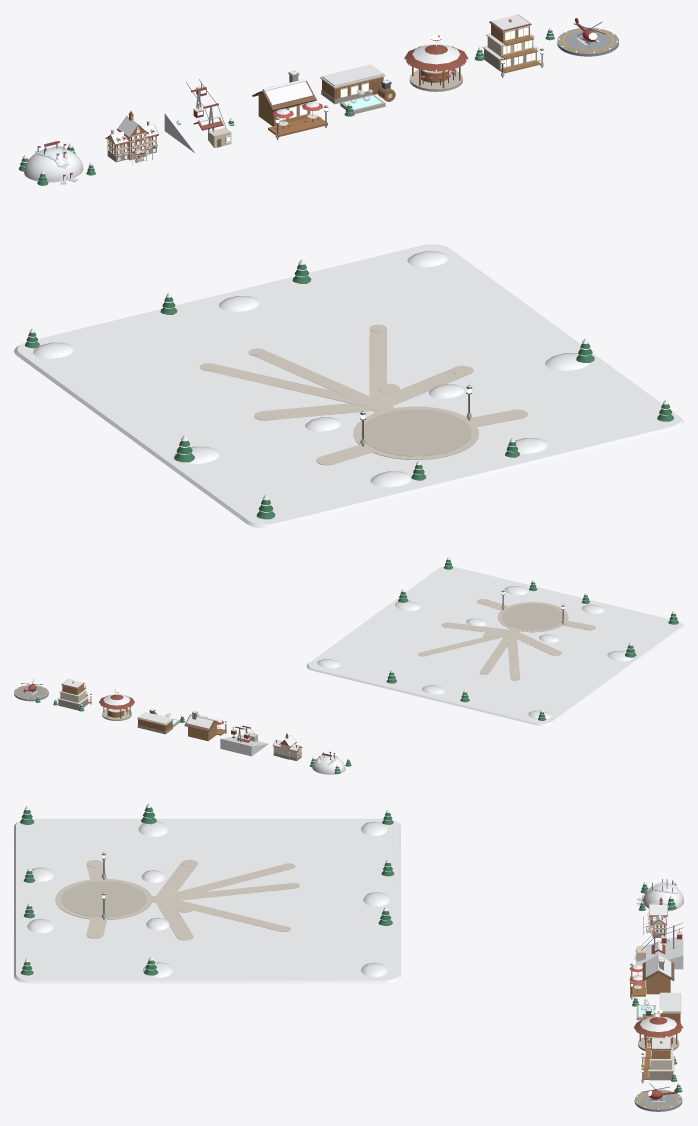
Rendered from epuletek.glb.
The picture shows the model from 3 angles, top to bottom: view 1: azimuth 30°, elevation 25°; view 2: azimuth 150°, elevation 25°; view 3: azimuth 270°, elevation 25°; orthographic projection. The views are drawn at different scales.
Visible parts, largest first — view 1: Epitkezes_alap, Epulet_felvono, Epulet_etterem, Epulet_wellness, Epulet_lakosztaly, Epulet_bar, Epulet_palya, Epulet_szalloda, Epulet_helipad; view 2: Epitkezes_alap, Epulet_felvono, Epulet_lakosztaly, Epulet_etterem, Epulet_bar, Epulet_wellness, Epulet_palya, Epulet_szalloda, Epulet_helipad; view 3: Epitkezes_alap, Epulet_etterem, Epulet_lakosztaly, Epulet_felvono, Epulet_bar, Epulet_palya, Epulet_helipad, Epulet_wellness, Epulet_szalloda.
Boxes of the visible parts, x1=… form: Epitkezes_alap: x1=14, y1=244, x2=683, y2=528; Epulet_felvono: x1=164, y1=79, x2=250, y2=153; Epulet_etterem: x1=252, y1=70, x2=328, y2=139; Epulet_wellness: x1=320, y1=64, x2=395, y2=116; Epulet_lakosztaly: x1=474, y1=14, x2=543, y2=77; Epulet_bar: x1=404, y1=35, x2=468, y2=91; Epulet_palya: x1=18, y1=141, x2=95, y2=185; Epulet_szalloda: x1=105, y1=110, x2=158, y2=164; Epulet_helipad: x1=545, y1=18, x2=618, y2=56; Epitkezes_alap: x1=306, y1=557, x2=683, y2=726; Epulet_felvono: x1=220, y1=725, x2=268, y2=756; Epulet_lakosztaly: x1=53, y1=679, x2=91, y2=711; Epulet_etterem: x1=184, y1=711, x2=226, y2=740; Epulet_bar: x1=99, y1=689, x2=134, y2=720; Epulet_wellness: x1=137, y1=709, x2=185, y2=734; Epulet_palya: x1=309, y1=751, x2=351, y2=774; Epulet_szalloda: x1=272, y1=733, x2=302, y2=761; Epulet_helipad: x1=14, y1=679, x2=48, y2=702; Epitkezes_alap: x1=14, y1=803, x2=400, y2=983; Epulet_etterem: x1=629, y1=953, x2=674, y2=999; Epulet_lakosztaly: x1=641, y1=1038, x2=677, y2=1083; Epulet_felvono: x1=634, y1=923, x2=683, y2=969; Epulet_bar: x1=634, y1=1009, x2=683, y2=1051; Epulet_palya: x1=637, y1=879, x2=683, y2=911; Epulet_helipad: x1=634, y1=1083, x2=682, y2=1111; Epulet_wellness: x1=632, y1=992, x2=681, y2=1022; Epulet_szalloda: x1=643, y1=897, x2=667, y2=937.
Bounding box in the file's own units: 15.32 × 0.9126 × 14.86.
